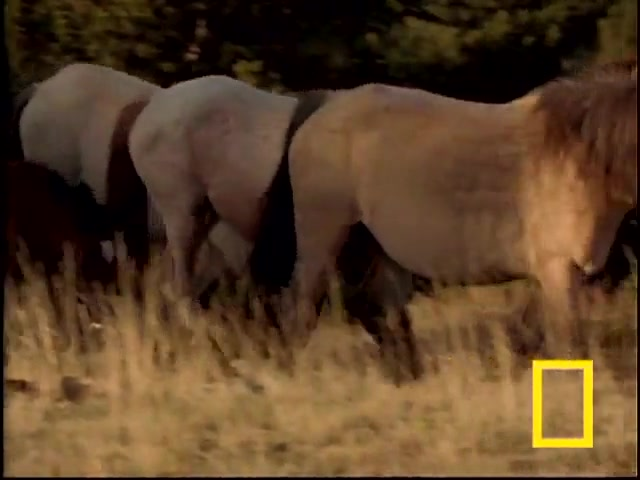horse: (289, 58, 636, 381)
